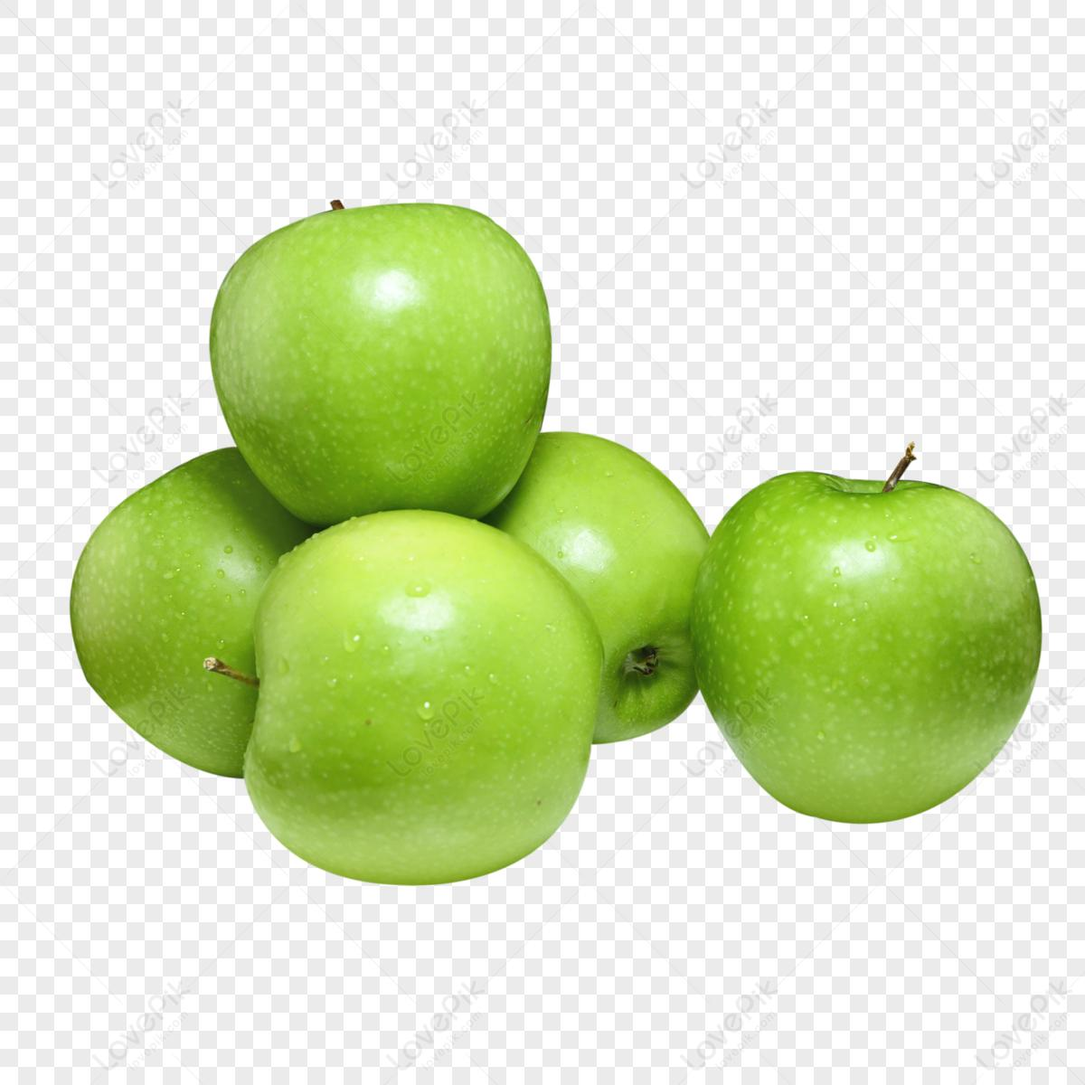apples: (43, 435, 728, 958), (690, 298, 1040, 868), (160, 207, 635, 526)
